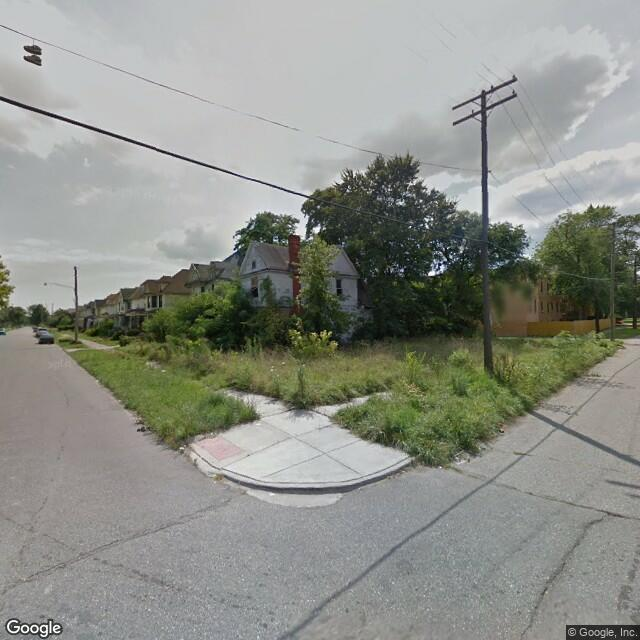litter: (267, 491, 277, 497), (177, 445, 184, 449), (162, 368, 166, 374), (438, 466, 443, 470), (94, 379, 103, 381), (258, 422, 262, 425)
